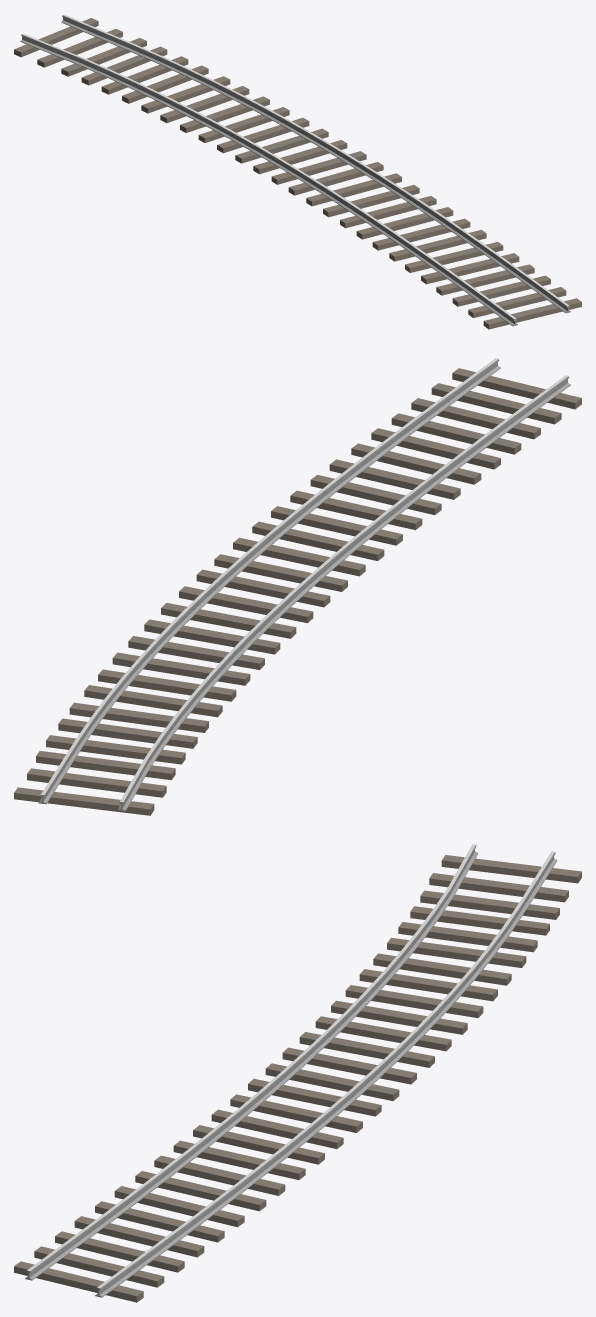
Rendered from Rail3.fbx.
3 renders of one model, top to bottom at view 1: azimuth 30°, elevation 25°; view 2: azimuth 150°, elevation 25°; view 3: azimuth 330°, elevation 25°, orthographic. The views are drawn at different scales.
Parts seen in each view (by area): view 1: Layer_0; view 2: Layer_0; view 3: Layer_0.
Boxes of the visible parts, x1,y1,x2,y2 form: Layer_0: (14, 14, 581, 329); Layer_0: (14, 358, 581, 815); Layer_0: (14, 844, 581, 1302).
Size of the model in its own units: 467 by 31 by 2056.
